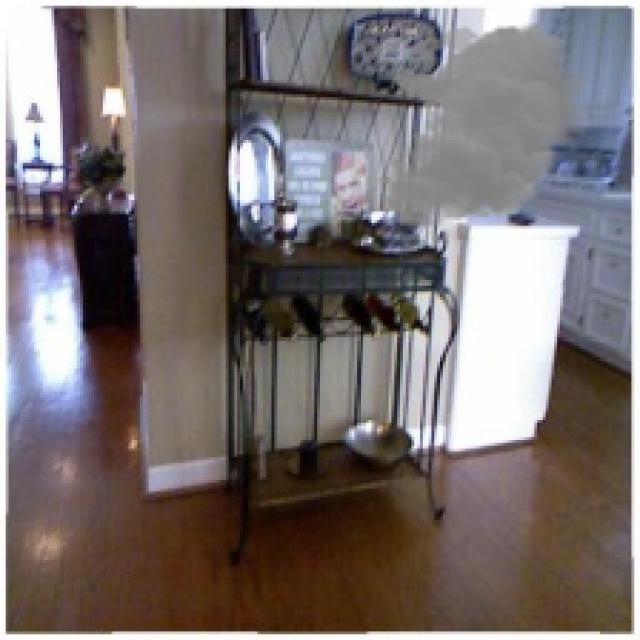smoke: (377, 20, 597, 229)
